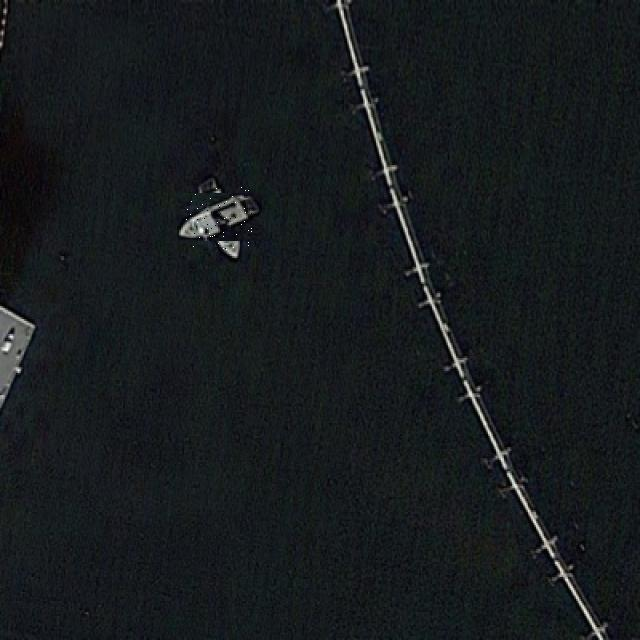boat: (186, 184, 252, 250)
